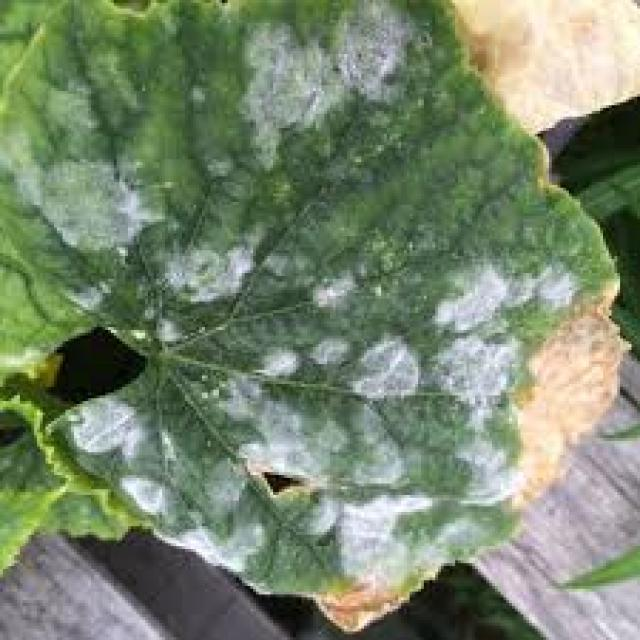powdery-mildew: (274, 259, 567, 572), (14, 132, 236, 302), (238, 8, 427, 171), (71, 395, 256, 560)
